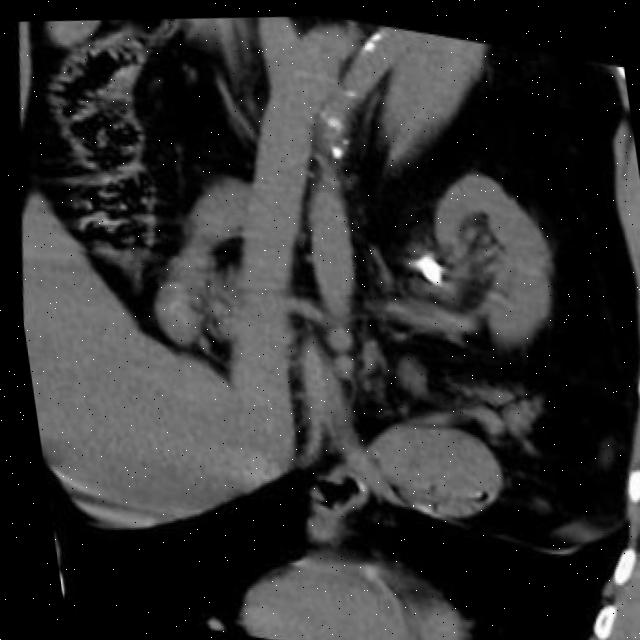Tas_Var: (406, 243, 445, 287)
